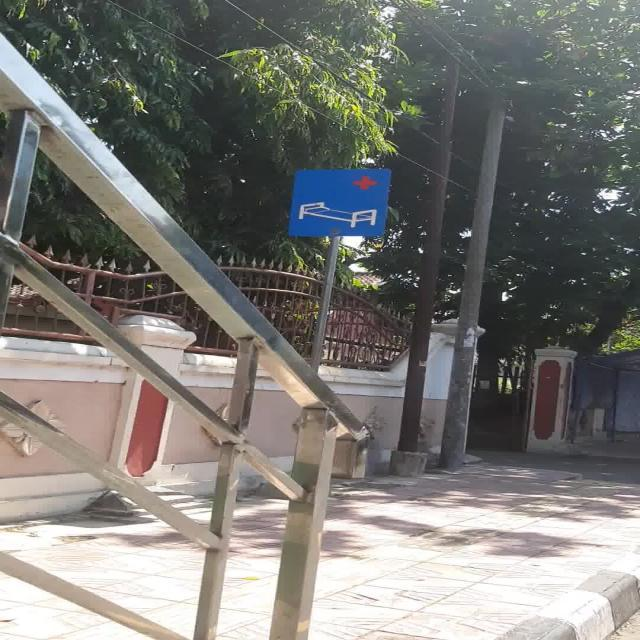Rumah Sakit: (288, 169, 390, 236)
